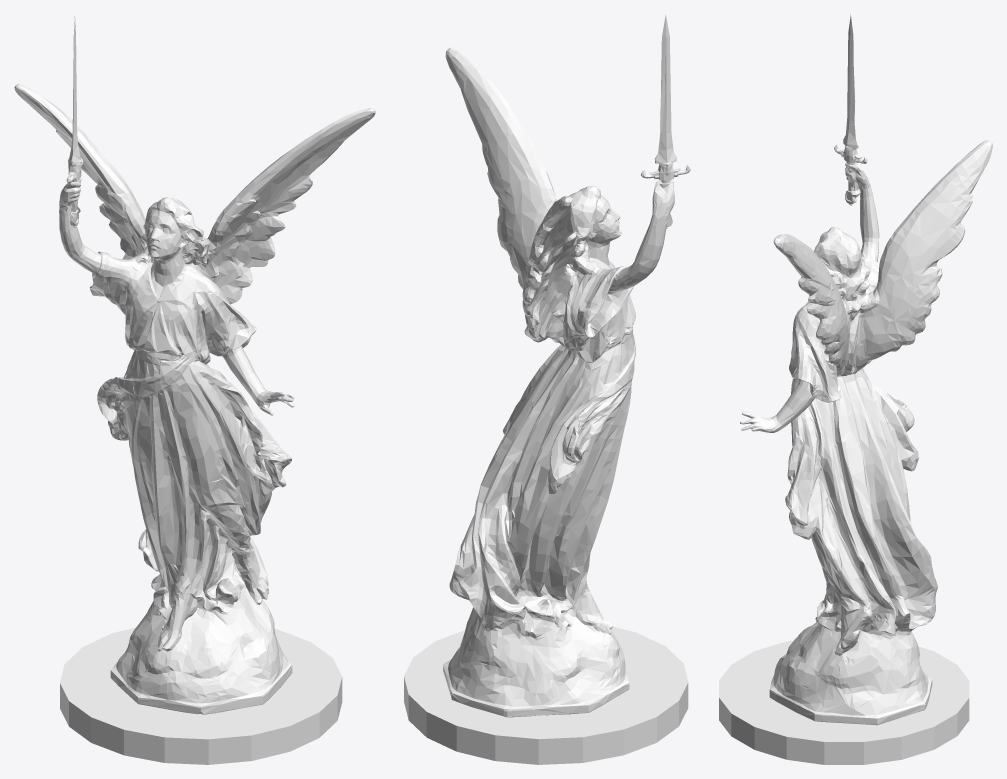
The model's file is angel.obj.
The picture shows the model from 3 angles, left to right: view 1: azimuth 30°, elevation 25°; view 2: azimuth 150°, elevation 25°; view 3: azimuth 270°, elevation 25°; orthographic projection. The views are drawn at different scales.
Parts seen in each view (by area): view 1: winged_victory_with_big_sword; view 2: winged_victory_with_big_sword; view 3: winged_victory_with_big_sword.
Boxes of the visible parts, x1,y1,x2,y2 form: winged_victory_with_big_sword: (14,16,375,764); winged_victory_with_big_sword: (404,14,690,764); winged_victory_with_big_sword: (719,14,992,764).
Bounding box in the file's own units: 1.74 × 4.34 × 1.67.
